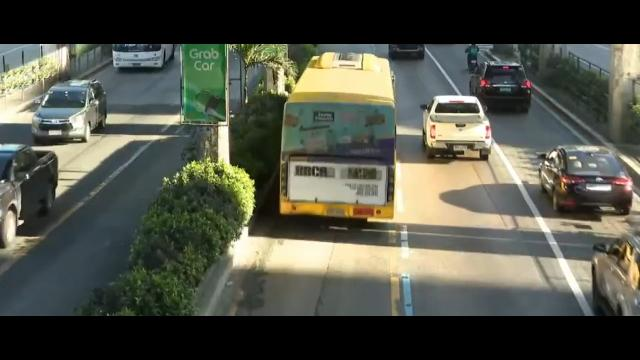bus: (258, 51, 402, 235), (112, 41, 175, 73)
car: (538, 146, 634, 218), (567, 226, 640, 313), (32, 80, 108, 142), (463, 58, 536, 109)
motorcycle: (463, 45, 482, 71)
pickup-truck: (0, 136, 77, 251), (421, 94, 493, 162)
